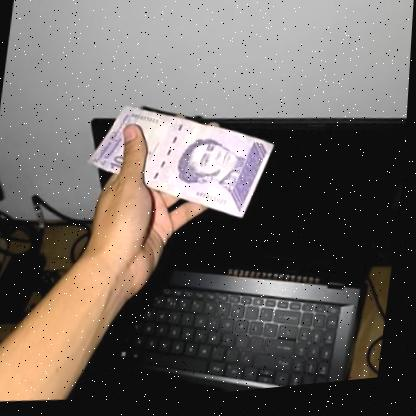ten-front-vef: (82, 93, 285, 239)
